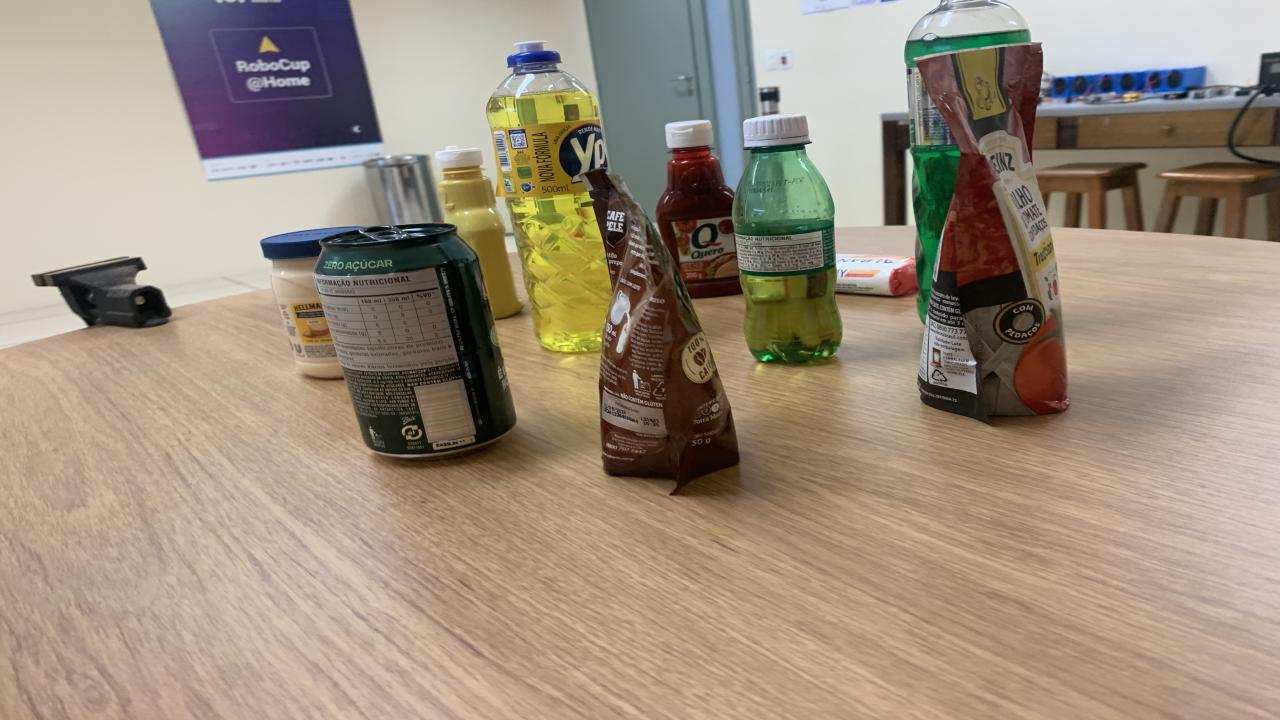Coffee-Pantry_Items: (580, 169, 740, 489)
Detergent-Cleanup_Items: (905, 0, 1030, 321), (488, 41, 610, 352)
Guarana-Drinks: (732, 114, 842, 364)
Guarana_Can-Drinks: (312, 223, 515, 459)
Ketchup-Pantry_Items: (655, 120, 742, 298)
Mayonnaise-Pantry_Items: (260, 227, 362, 379)
Mustard-Pantry_Items: (435, 146, 522, 319)
Soap-Cleanup_Items: (835, 253, 918, 296)
Tomato_Sauce-Pantry_Items: (918, 43, 1068, 420)
